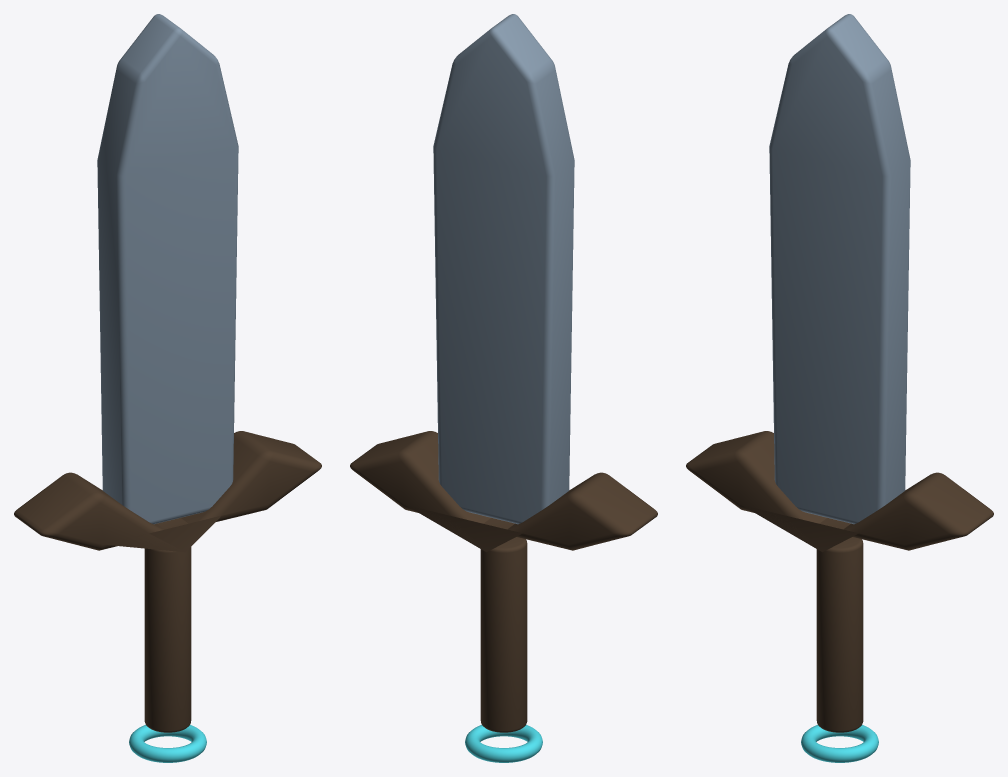
File: sword_v7.glb
3 renders of one model, left to right at view 1: azimuth 30°, elevation 25°; view 2: azimuth 150°, elevation 25°; view 3: azimuth 330°, elevation 25°, orthographic.
Parts seen in each view (by area): view 1: EXECUTIONER_BLADE_PRIMARY, EXECUTIONER_GUARD_SECONDARY, GRIP_SECONDARY, POMMEL_ACCENT; view 2: EXECUTIONER_BLADE_PRIMARY, EXECUTIONER_GUARD_SECONDARY, GRIP_SECONDARY, POMMEL_ACCENT; view 3: EXECUTIONER_BLADE_PRIMARY, EXECUTIONER_GUARD_SECONDARY, GRIP_SECONDARY, POMMEL_ACCENT.
Boxes of the visible parts, x1,y1,x2,y2 form: EXECUTIONER_BLADE_PRIMARY: (97, 14, 238, 524); EXECUTIONER_GUARD_SECONDARY: (14, 431, 321, 552); GRIP_SECONDARY: (144, 547, 191, 732); POMMEL_ACCENT: (129, 725, 206, 762); EXECUTIONER_BLADE_PRIMARY: (433, 14, 574, 524); EXECUTIONER_GUARD_SECONDARY: (350, 431, 657, 552); GRIP_SECONDARY: (480, 537, 527, 732); POMMEL_ACCENT: (465, 725, 542, 762); EXECUTIONER_BLADE_PRIMARY: (769, 14, 910, 524); EXECUTIONER_GUARD_SECONDARY: (686, 431, 993, 552); GRIP_SECONDARY: (816, 537, 863, 732); POMMEL_ACCENT: (801, 725, 878, 762).
Size of the model in its own units: 1.95 by 4.82 by 0.468.
